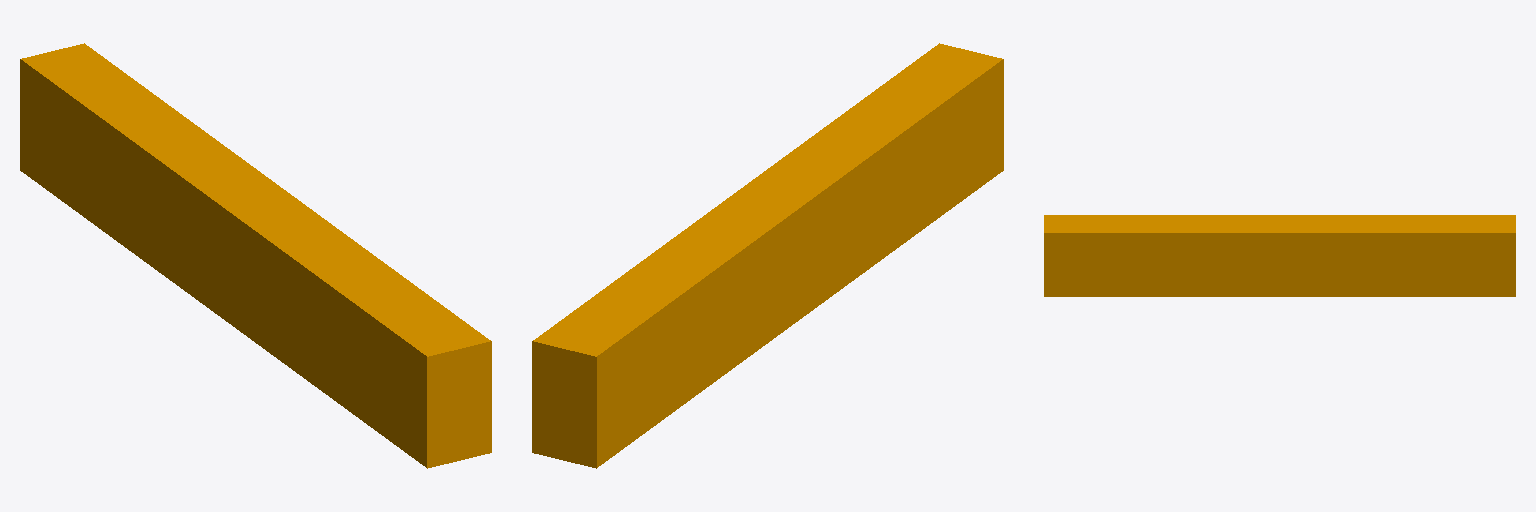
The robot description file, URDF, robot "turtlebot3_waffle":
<?xml version="1.0" ?>
<robot name="turtlebot3_waffle" xmlns:xacro="http://ros.org/wiki/xacro">
  <!-- <xacro:include filename="$(find turtlebot3_description)/urdf/common_properties.urdf"/>

  <xacro:property name="r200_cam_rgb_px" value="0.005"/>
  <xacro:property name="r200_cam_rgb_py" value="0.018"/>
  <xacro:property name="r200_cam_rgb_pz" value="0.013"/>
  <xacro:property name="r200_cam_depth_offset" value="0.01"/> -->

  <!-- Init colour -->
  <material name="black">
      <color rgba="0.0 0.0 0.0 1.0"/>
  </material>

  <material name="dark">
    <color rgba="0.3 0.3 0.3 1.0"/>
  </material>

  <material name="light_black">
    <color rgba="0.4 0.4 0.4 1.0"/>
  </material>

  <material name="blue">
    <color rgba="0.0 0.0 0.8 1.0"/>
  </material>

  <material name="green">
    <color rgba="0.0 0.8 0.0 1.0"/>
  </material>

  <material name="grey">
    <color rgba="0.5 0.5 0.5 1.0"/>
  </material>

  <material name="orange">
    <color rgba="1.0 0.4235 0.0392 1.0"/>
  </material>

  <material name="brown">
    <color rgba="0.8706 0.8118 0.7647 1.0"/>
  </material>

  <material name="red">
    <color rgba="0.8 0.0 0.0 1.0"/>
  </material>

  <material name="white">
    <color rgba="1.0 1.0 1.0 1.0"/>
  </material>

  <link name="base_footprint"/>

  <joint name="base_joint" type="fixed">
    <parent link="base_footprint"/>
    <child link="base_link" />
    <origin xyz="0 0 0.010" rpy="0 0 0"/>
  </joint>

  <link name="base_link">
    <visual>
      <origin xyz="-0.064 0 0.0" rpy="0 0 0"/>
      <geometry>
        <mesh filename="package://followme_turtlebot3_gazebo/models/turtlebot3_common/meshes/waffle_base.dae" scale="0.001 0.001 0.001"/>
      </geometry>
      <material name="light_black"/>
    </visual>
  
    <collision>
      <origin xyz="-0.064 0 0.047" rpy="0 0 0"/>
      <geometry>
        <box size="0.266 0.266 0.094"/>
      </geometry>
    </collision>

    <inertial>
      <origin xyz="0 0 0" rpy="0 0 0"/>
      <mass value="1.3729096e+00"/>
      <inertia ixx="8.7002718e-03" ixy="-4.7576583e-05" ixz="1.1160499e-04"
               iyy="8.6195418e-03" iyz="-3.5422299e-06"
               izz="1.4612727e-02" />
    </inertial>
  </link>

  <joint name="wheel_left_joint" type="continuous">
    <parent link="base_link"/>
    <child link="wheel_left_link"/>
    <origin xyz="0.0 0.144 0.023" rpy="-1.57 0 0"/>
    <axis xyz="0 0 1"/>
  </joint>

  <link name="wheel_left_link">
    <visual>
      <origin xyz="0 0 0" rpy="1.57 0 0"/>
      <geometry>
        <mesh filename="package://followme_turtlebot3_gazebo/models/turtlebot3_common/meshes/tire.dae" scale="0.001 0.001 0.001"/>
      </geometry>
      <material name="dark"/>
    </visual>

    <collision>
      <origin xyz="0 0 0" rpy="0 0 0"/>
      <geometry>
        <cylinder length="0.018" radius="0.033"/>
      </geometry>
    </collision>

    <inertial>
      <origin xyz="0 0 0" />
      <mass value="2.8498940e-02" />
      <inertia ixx="1.1175580e-05" ixy="-4.2369783e-11" ixz="-5.9381719e-09"
               iyy="1.1192413e-05" iyz="-1.4400107e-11"
               izz="2.0712558e-05" />
      </inertial>
  </link>

  <joint name="wheel_right_joint" type="continuous">
    <parent link="base_link"/>
    <child link="wheel_right_link"/>
    <origin xyz="0.0 -0.144 0.023" rpy="-1.57 0 0"/>
    <axis xyz="0 0 1"/>
  </joint>

  <link name="wheel_right_link">
    <visual>
      <origin xyz="0 0 0" rpy="1.57 0 0"/>
      <geometry>
        <mesh filename="package://followme_turtlebot3_gazebo/models/turtlebot3_common/meshes/tire.dae" scale="0.001 0.001 0.001"/>
      </geometry>
      <material name="dark"/>
    </visual>

    <collision>
      <origin xyz="0 0 0" rpy="0 0 0"/>
      <geometry>
        <cylinder length="0.018" radius="0.033"/>
      </geometry>
    </collision>

    <inertial>
      <origin xyz="0 0 0" />
      <mass value="2.8498940e-02" />
      <inertia ixx="1.1175580e-05" ixy="-4.2369783e-11" ixz="-5.9381719e-09"
               iyy="1.1192413e-05" iyz="-1.4400107e-11"
               izz="2.0712558e-05" />
      </inertial>
  </link>

  <joint name="caster_back_right_joint" type="fixed">
    <parent link="base_link"/>
    <child link="caster_back_right_link"/>
    <origin xyz="-0.177 -0.064 -0.004" rpy="-1.57 0 0"/>
  </joint>

  <link name="caster_back_right_link">
    <collision>
      <origin xyz="0 0.001 0" rpy="0 0 0"/>
      <geometry>
        <box size="0.030 0.009 0.020"/>
      </geometry>
    </collision>

    <inertial>
      <origin xyz="0 0 0" />
      <mass value="0.005" />
      <inertia ixx="0.001" ixy="0.0" ixz="0.0"
               iyy="0.001" iyz="0.0"
               izz="0.001" />
    </inertial>
  </link>

  <joint name="caster_back_left_joint" type="fixed">
    <parent link="base_link"/>
    <child link="caster_back_left_link"/>
    <origin xyz="-0.177 0.064 -0.004" rpy="-1.57 0 0"/>
  </joint>

  <link name="caster_back_left_link">
    <collision>
      <origin xyz="0 0.001 0" rpy="0 0 0"/>
      <geometry>
        <box size="0.030 0.009 0.020"/>
      </geometry>
    </collision>

    <inertial>
      <origin xyz="0 0 0" />
      <mass value="0.005" />
      <inertia ixx="0.001" ixy="0.0" ixz="0.0"
               iyy="0.001" iyz="0.0"
               izz="0.001" />
    </inertial>
  </link>

  <joint name="imu_joint" type="fixed">
    <parent link="base_link"/>
    <child link="imu_link"/>
    <origin xyz="0.0 0 0.068" rpy="0 0 0"/>
  </joint>

  <link name="imu_link"/>

  <joint name="scan_joint" type="fixed">
    <parent link="base_link"/>
    <child link="base_scan"/>
    <origin xyz="-0.064 0 0.122" rpy="0 0 0"/>
  </joint>

  <link name="base_scan">
    <visual>
      <origin xyz="0 0 0" rpy="0 0 0"/>
      <geometry>
        <mesh filename="package://followme_turtlebot3_gazebo/models/turtlebot3_common/meshes/lds.dae" scale="0.001 0.001 0.001"/>
      </geometry>
      <material name="dark"/>
    </visual>

    <collision>
      <origin xyz="0.015 0 -0.0065" rpy="0 0 0"/>
      <geometry>
        <cylinder length="0.0315" radius="0.055"/>
      </geometry>
    </collision>

    <inertial>
      <mass value="0.114" />
      <origin xyz="0 0 0" />
      <inertia ixx="0.001" ixy="0.0" ixz="0.0"
               iyy="0.001" iyz="0.0"
               izz="0.001" />
    </inertial>
  </link>

  <joint name="camera_joint" type="fixed">
    <origin xyz="0.064 0.0 0.104" rpy="0 0 0"/>
    <parent link="base_link"/>
    <child link="camera_link"/>
  </joint>

  <link name="camera_link">
    <visual>
     <origin xyz="0 0 0" rpy="0 0 0"/>
      <geometry>
       <!-- <mesh filename="package://followme_turtlebot3_gazebo/models/turtlebot3_common/meshes/r200.dae" /> -->
       <box size="0.012 0.132 0.020"/>
      </geometry>
    </visual>
    <collision>
      <origin xyz="0.0 0.0 0.0" rpy="0 0 0"/>
      <geometry>
        <box size="0.012 0.132 0.020"/>
      </geometry>
    </collision>

    <!-- This inertial field needs doesn't contain reliable data!! -->
<!--   <inertial>
      <mass value="0.564" />
      <origin xyz="0 0 0" />
      <inertia ixx="0.003881243" ixy="0.0" ixz="0.0"
               iyy="0.000498940" iyz="0.0"
               izz="0.003879257" />
    </inertial>-->
  </link>

  

  <joint name="camera_optical_joint" type="fixed">
    <origin xyz="0 0 0" rpy="-1.57 0 -1.57"/>
    <parent link="camera_link"/>
    <child link="camera_optical_link"/>
  </joint>

  <link name="camera_optical_link"/>
  

</robot>

--- Facts derived from the render (not from the file) ---
3 views of the same robot in one strip: view 1: azimuth 30°, elevation 25°; view 2: azimuth 150°, elevation 25°; view 3: azimuth 270°, elevation 25° (orthographic).
Robot: turtlebot3_waffle — 10 links, 9 joints (2 continuous, 7 fixed); root link base_footprint; default pose: all joints at 0.
Links seen in each view (by area): view 1: camera_link; view 2: camera_link; view 3: camera_link.
Link boxes in pixels (x1,y1,x2,y2): camera_link: (20,43,491,468); camera_link: (532,43,1003,468); camera_link: (1044,215,1515,296).
Size in the robot's own frame: 0.012 by 0.132 by 0.02 metres.
0 mesh visuals loaded from 3 distinct referenced files (none loaded); not drawn: 4 (reference not matched to a file when rendering).